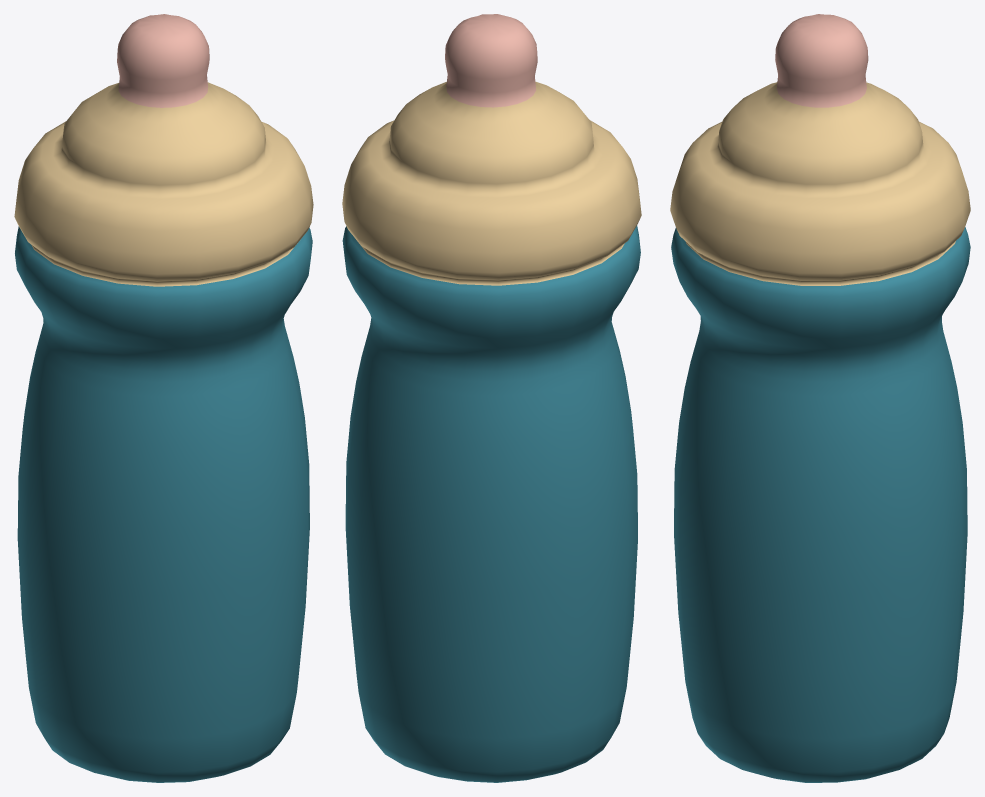
The model's file is baby feeder.fbx.
3 views of the same model, side by side, from view 1: azimuth 30°, elevation 25°; view 2: azimuth 150°, elevation 25°; view 3: azimuth 270°, elevation 25° (orthographic).
Parts seen in each view (by area): view 1: baby feeder; view 2: baby feeder; view 3: baby feeder.
Boxes of the visible parts, x1,y1,x2,y2 form: baby feeder: [14, 14, 313, 782]; baby feeder: [342, 14, 641, 782]; baby feeder: [670, 14, 970, 782].
Bounding box in the file's own units: 28.69 × 76.71 × 28.98.
